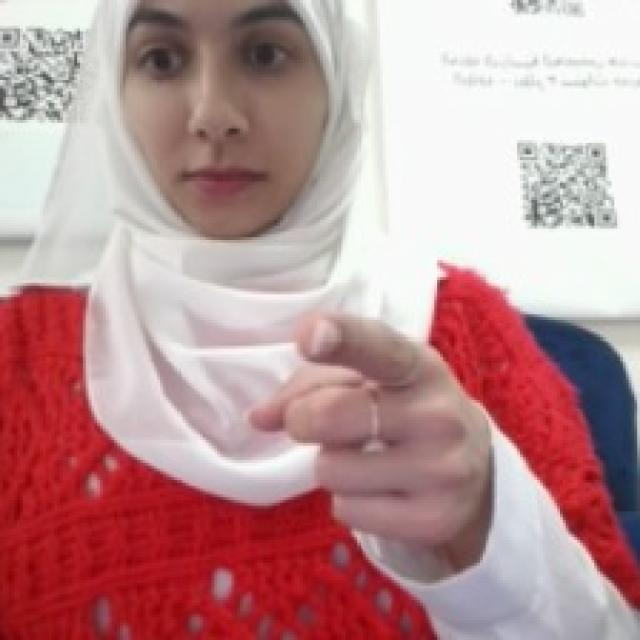you: (240, 300, 494, 551)
